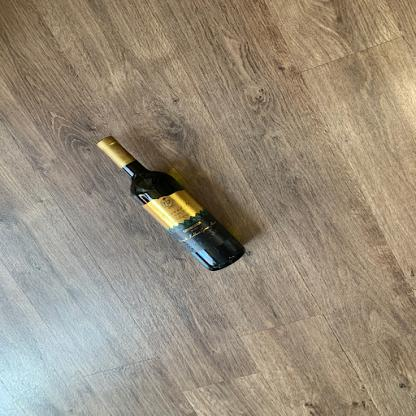trash: (93, 131, 251, 273)
